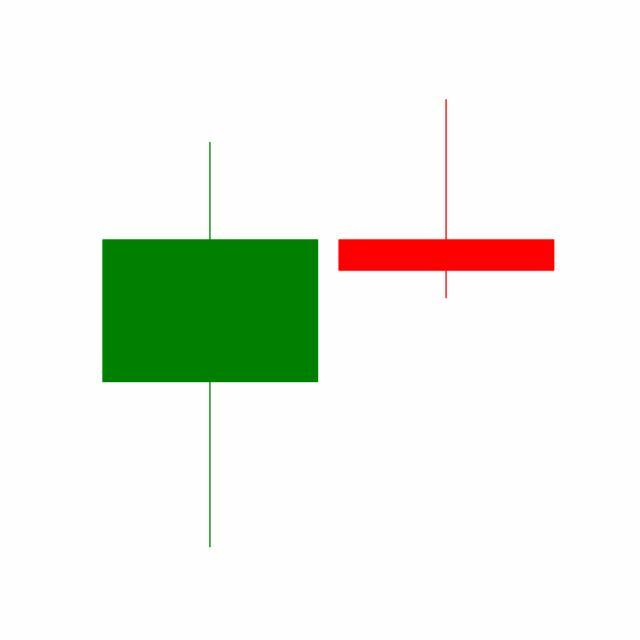Gravestone Doji: (328, 97, 566, 301)
